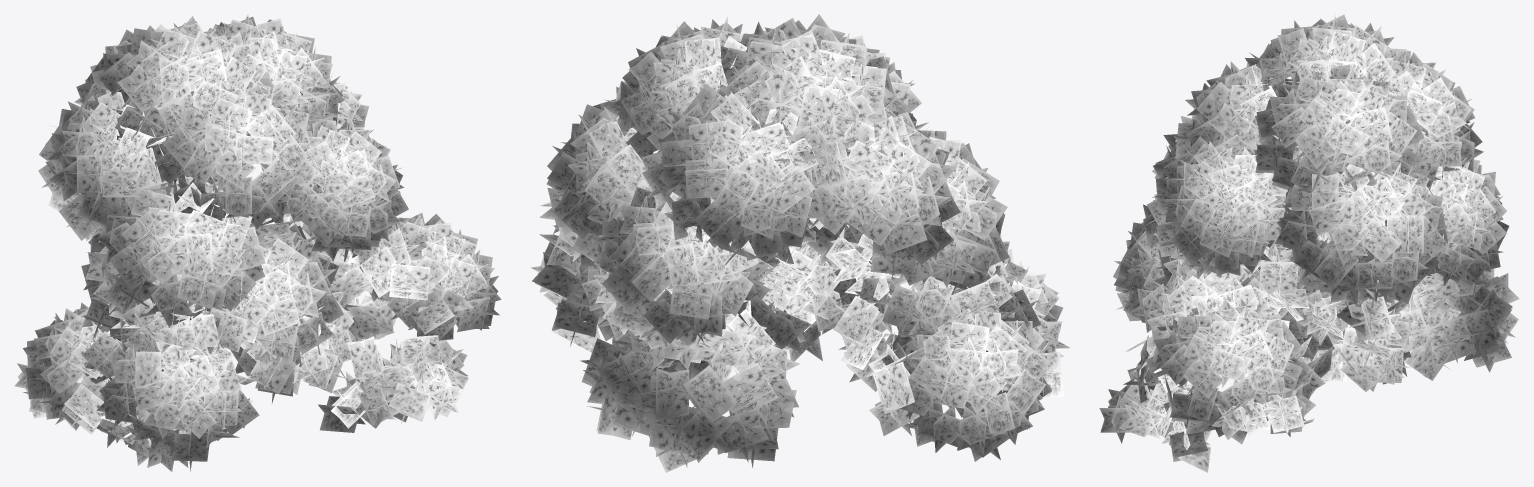
File: TraditionalKoreanHouse_TreeLeafA02.fbx
The picture shows the model from 3 angles, left to right: view 1: azimuth 30°, elevation 25°; view 2: azimuth 150°, elevation 25°; view 3: azimuth 270°, elevation 25°; orthographic projection. The views are drawn at different scales.
Parts seen in each view (by area): view 1: TraditionalKoreanHouse_TreeLeafA02; view 2: TraditionalKoreanHouse_TreeLeafA02; view 3: TraditionalKoreanHouse_TreeLeafA02.
Part boxes in pixels (box(x1,y1,x2,y2)): TraditionalKoreanHouse_TreeLeafA02: box(14, 14, 501, 471); TraditionalKoreanHouse_TreeLeafA02: box(530, 14, 1069, 472); TraditionalKoreanHouse_TreeLeafA02: box(1099, 14, 1519, 472).
Size of the model in its own units: 712 by 561 by 597.
